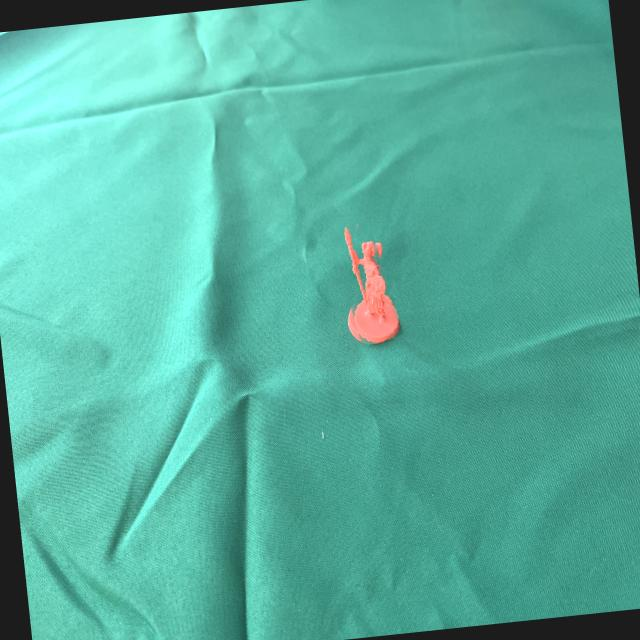amon_follower: (345, 227, 400, 343)
